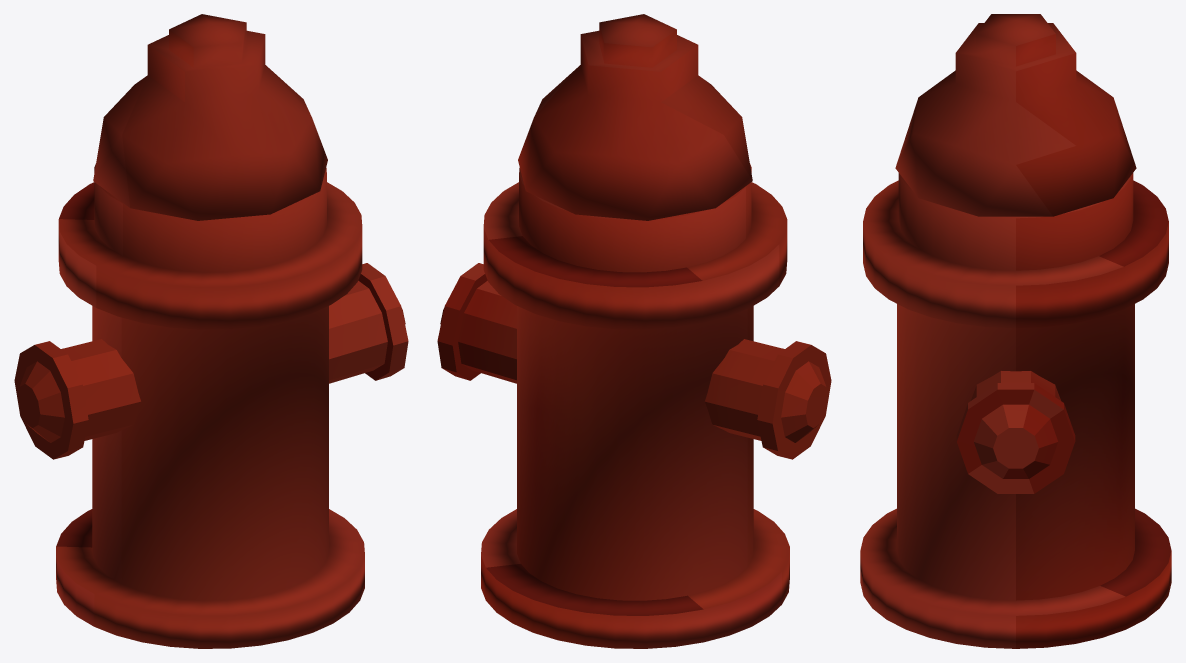
File: yangın musluğu.fbx
The picture shows the model from 3 angles, left to right: view 1: azimuth 30°, elevation 25°; view 2: azimuth 150°, elevation 25°; view 3: azimuth 270°, elevation 25°; orthographic projection.
Parts seen in each view (by area): view 1: Daire; view 2: Daire; view 3: Daire.
Boxes of the visible parts, x1=… form: Daire: x1=14, y1=14, x2=408, y2=648; Daire: x1=437, y1=14, x2=831, y2=648; Daire: x1=860, y1=14, x2=1171, y2=648.
Bounding box in the file's own units: 54.66 × 79.87 × 40.
1 material, 1 textured.
